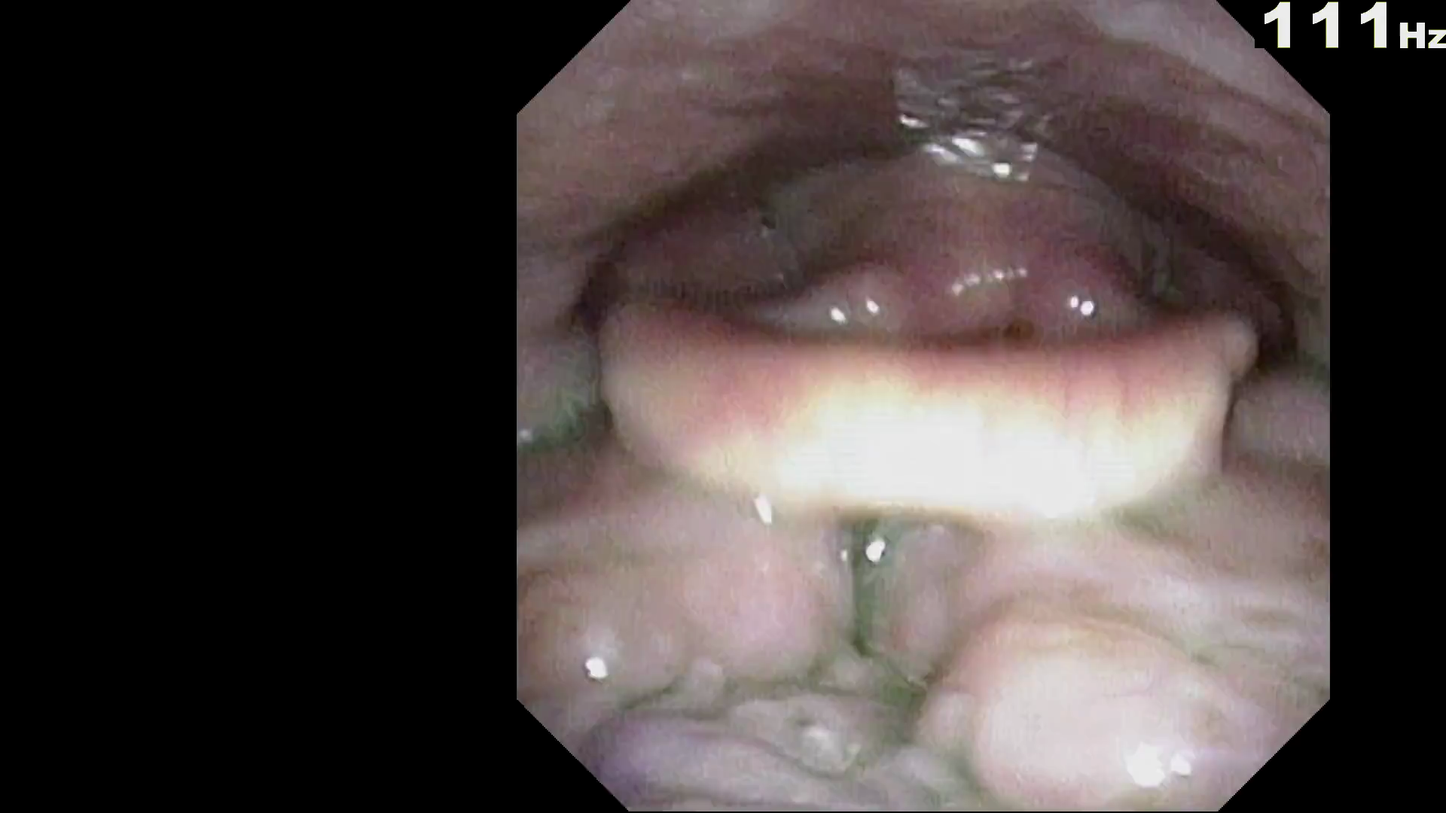epiglottis: (582, 234, 1243, 463)
trachea: (897, 320, 1036, 471)
